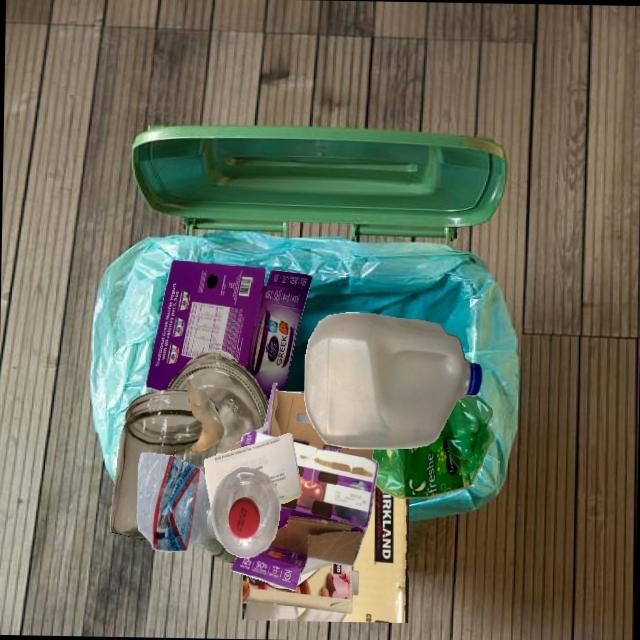cardboard: (228, 382, 378, 591), (146, 260, 312, 402), (242, 484, 408, 622)
glass: (110, 389, 217, 539), (167, 349, 269, 455), (185, 377, 224, 452)
paper: (262, 431, 331, 585), (204, 432, 301, 512)
plastic: (304, 312, 481, 449), (372, 394, 494, 498), (137, 452, 216, 551), (211, 467, 280, 557)
